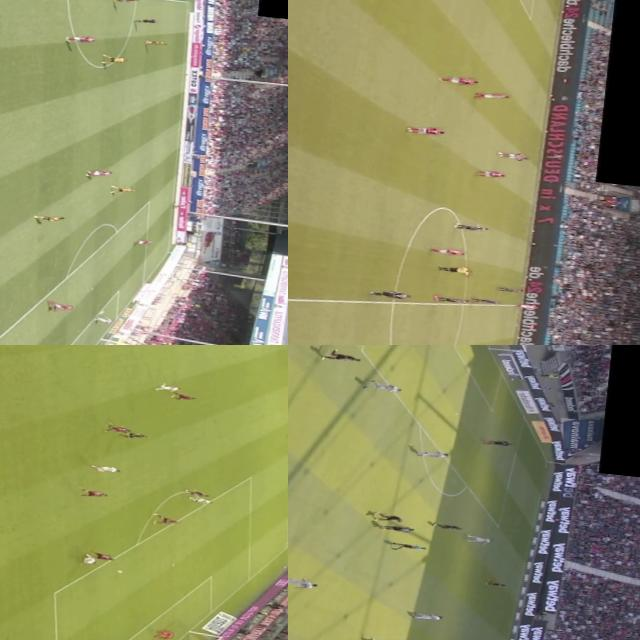ball: (96, 308, 106, 314), (114, 568, 124, 574), (524, 274, 530, 277)
player: (436, 72, 482, 88), (321, 346, 362, 362), (364, 286, 414, 299), (362, 378, 402, 393), (473, 86, 510, 102), (448, 220, 491, 232), (406, 122, 448, 134), (288, 573, 318, 589), (64, 33, 98, 46), (370, 509, 404, 522), (82, 167, 115, 180), (382, 521, 415, 534), (150, 514, 182, 527), (32, 213, 68, 224), (470, 294, 500, 306), (44, 300, 76, 311), (482, 437, 514, 448), (473, 167, 508, 177), (436, 294, 470, 304), (429, 246, 463, 256), (496, 150, 528, 160), (170, 392, 202, 402), (418, 448, 450, 458), (80, 488, 111, 498), (89, 549, 119, 559), (464, 534, 494, 544), (428, 520, 461, 529), (93, 463, 122, 473), (182, 488, 212, 497), (187, 496, 216, 505), (104, 424, 130, 434), (366, 633, 403, 640), (101, 53, 129, 62), (497, 284, 525, 293), (142, 38, 172, 46), (414, 613, 444, 621), (158, 381, 184, 390), (111, 184, 136, 193), (156, 630, 178, 640), (80, 554, 100, 564), (93, 316, 117, 324), (514, 300, 538, 308), (484, 579, 508, 587), (135, 238, 159, 245), (111, 0, 142, 3)
